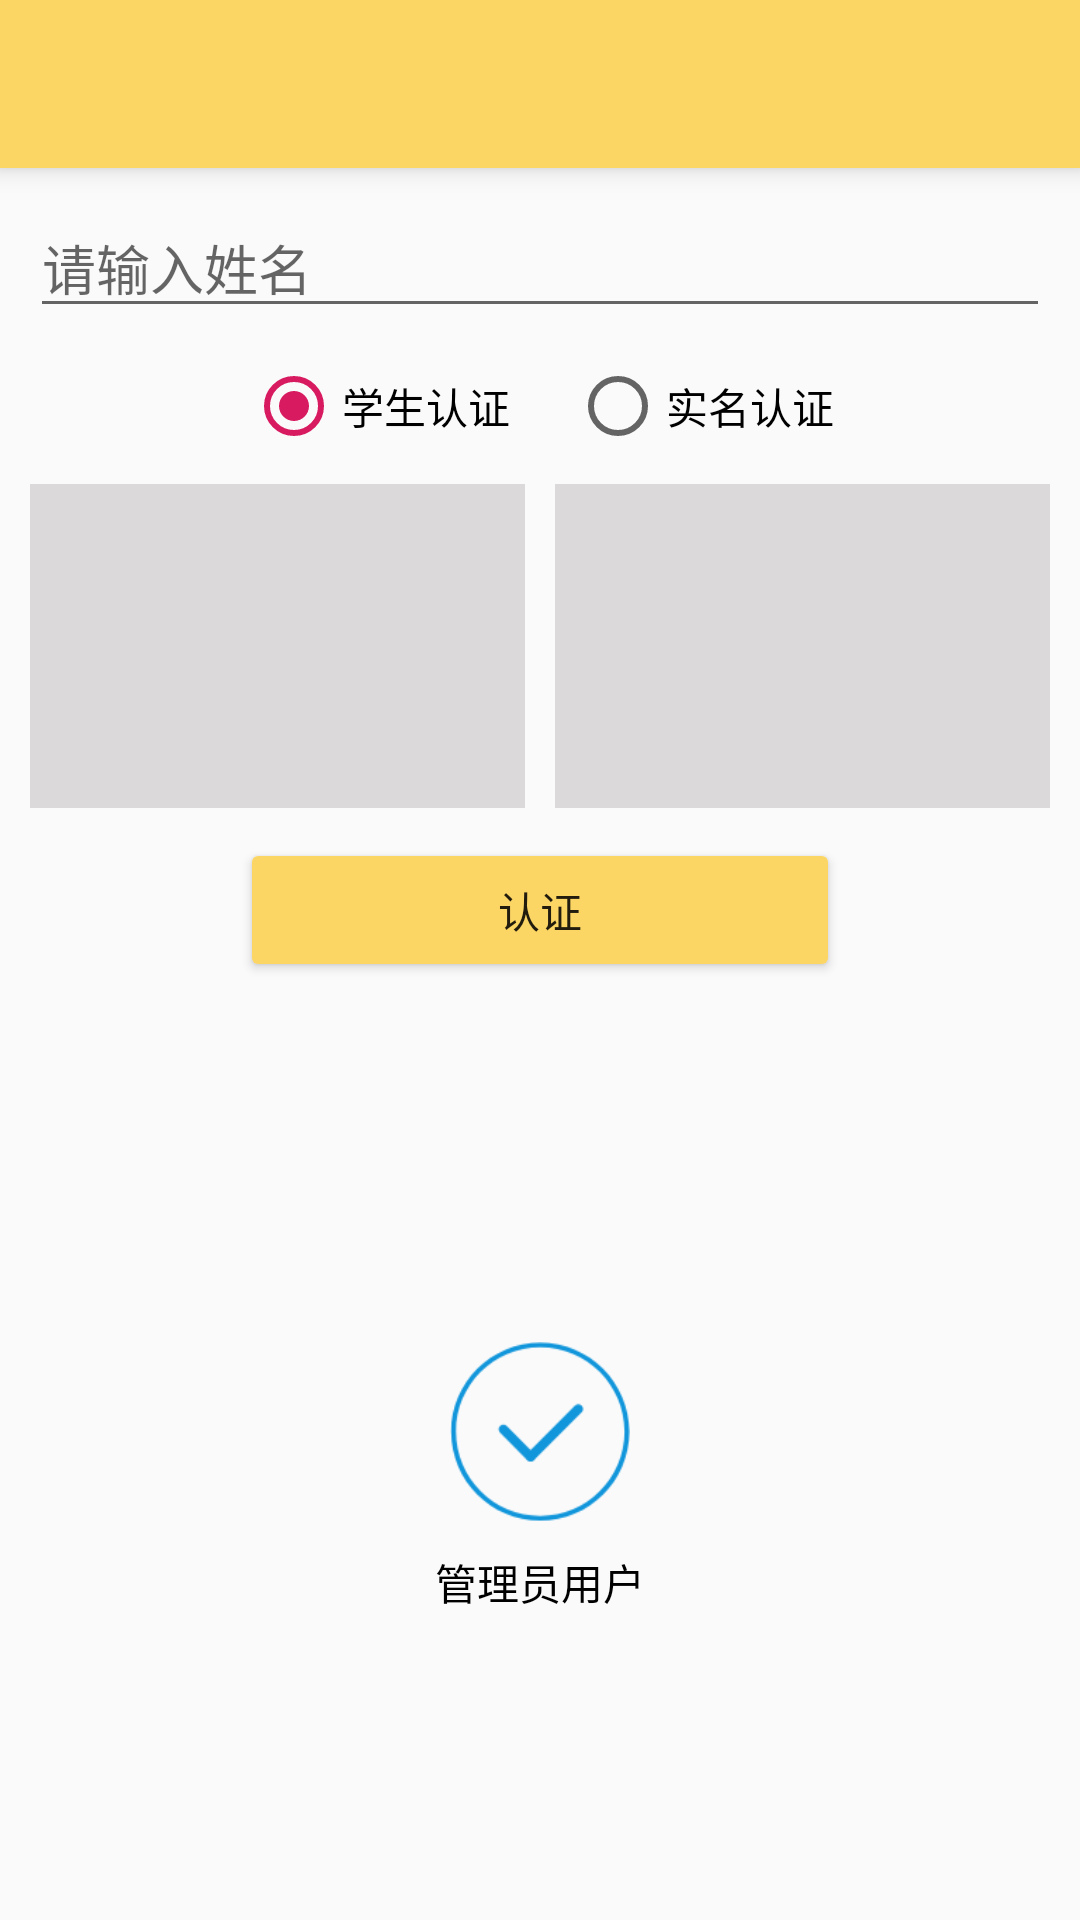

Icons on this 1080 × 1920 Android screen, each with the point to tap as (x,y):
passed: (540,1431)
